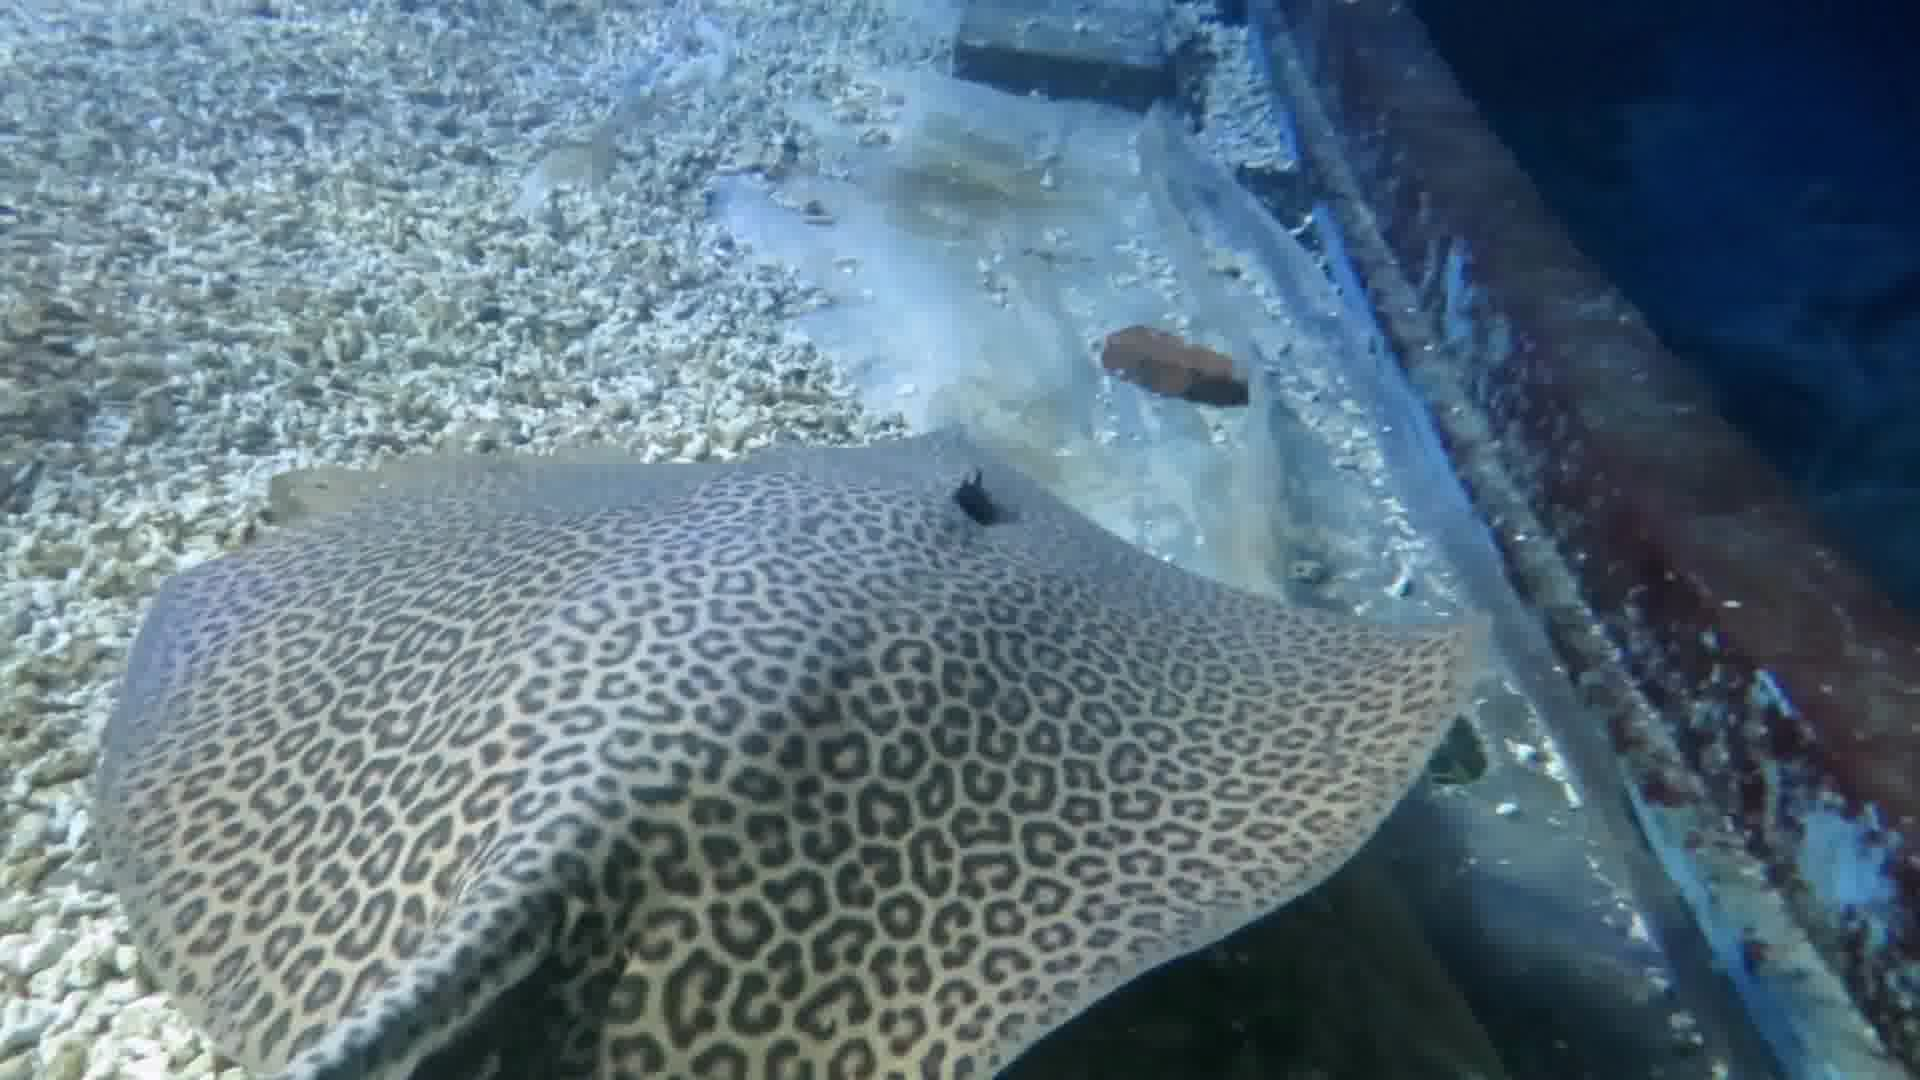Himantura uarnak: (1, 425, 1518, 1077)
